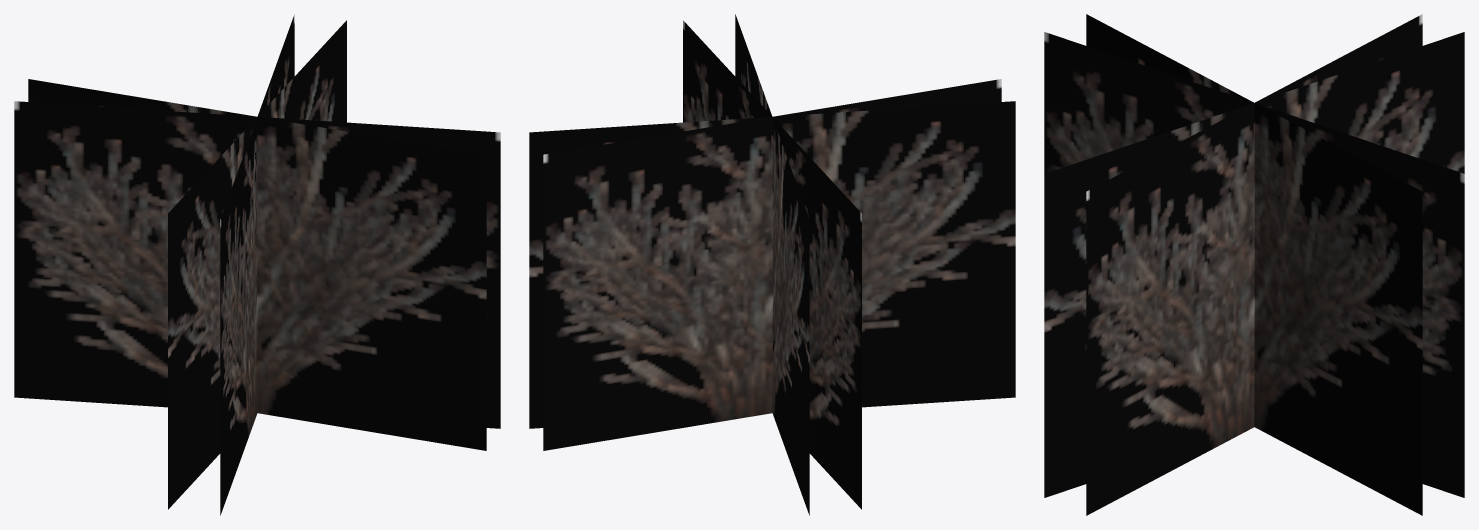
Rendered from Shrub_E1.fbx.
3 views of the same model, side by side, from view 1: azimuth 30°, elevation 25°; view 2: azimuth 150°, elevation 25°; view 3: azimuth 270°, elevation 25° (orthographic). The views are drawn at different scales.
Visible parts, largest first — view 1: Shrub_E1; view 2: Shrub_E1; view 3: Shrub_E1.
Part boxes in pixels (x1=…): Shrub_E1: x1=14, y1=14, x2=500, y2=515; Shrub_E1: x1=529, y1=14, x2=1015, y2=515; Shrub_E1: x1=1044, y1=14, x2=1464, y2=515.
Bounding box in the file's own units: 1 × 0.8511 × 1.
